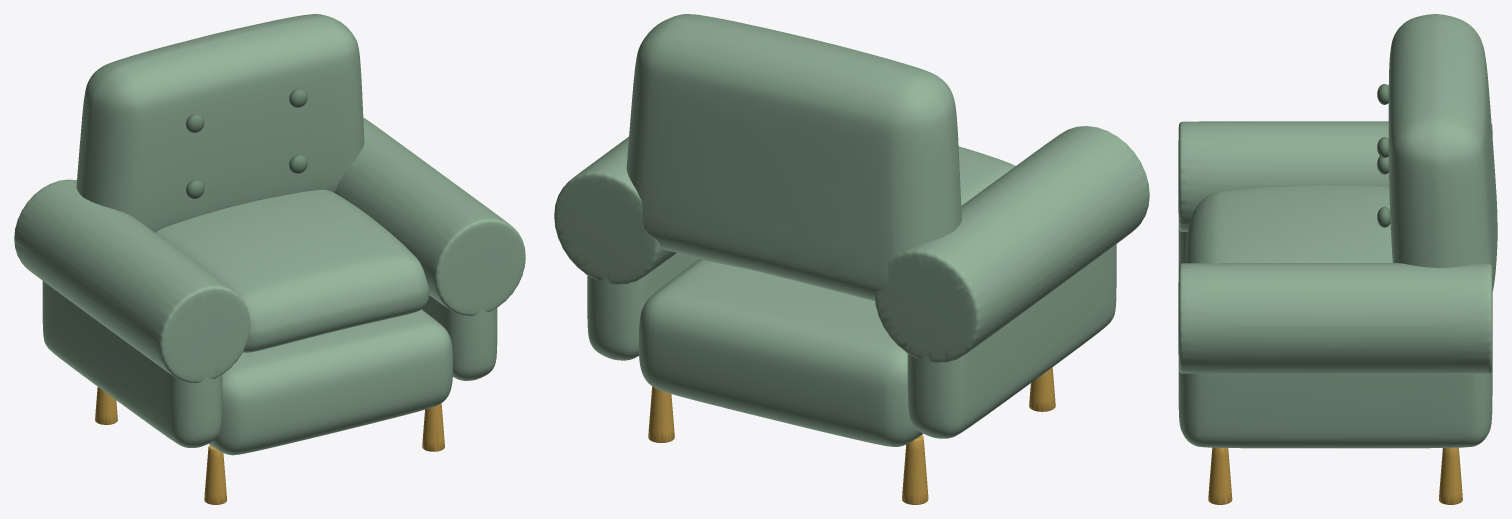
Rendered from plush_armchair.glb.
3 renders of one model, left to right at view 1: azimuth 30°, elevation 25°; view 2: azimuth 150°, elevation 25°; view 3: azimuth 270°, elevation 25°, orthographic. The views are drawn at different scales.
Parts seen in each view (by area): view 1: base, leg, tuft; view 2: base, leg; view 3: base, leg, tuft.
Boxes of the visible parts, box(x1,y1,x2,y2) form: base: box(14, 14, 525, 455); leg: box(95, 387, 444, 504); tuft: box(186, 88, 307, 198); base: box(554, 14, 1149, 446); leg: box(648, 367, 1055, 504); base: box(1178, 14, 1497, 448); leg: box(1208, 447, 1462, 504); tuft: box(1377, 84, 1390, 227).
Bounding box in the file's own units: 1.28 × 1.2 × 0.9138.
